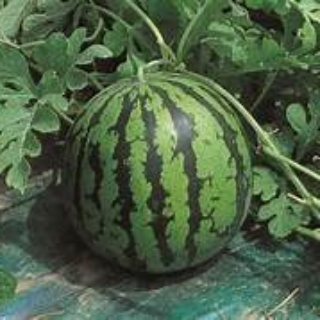dua_hau: (64, 66, 264, 282)
